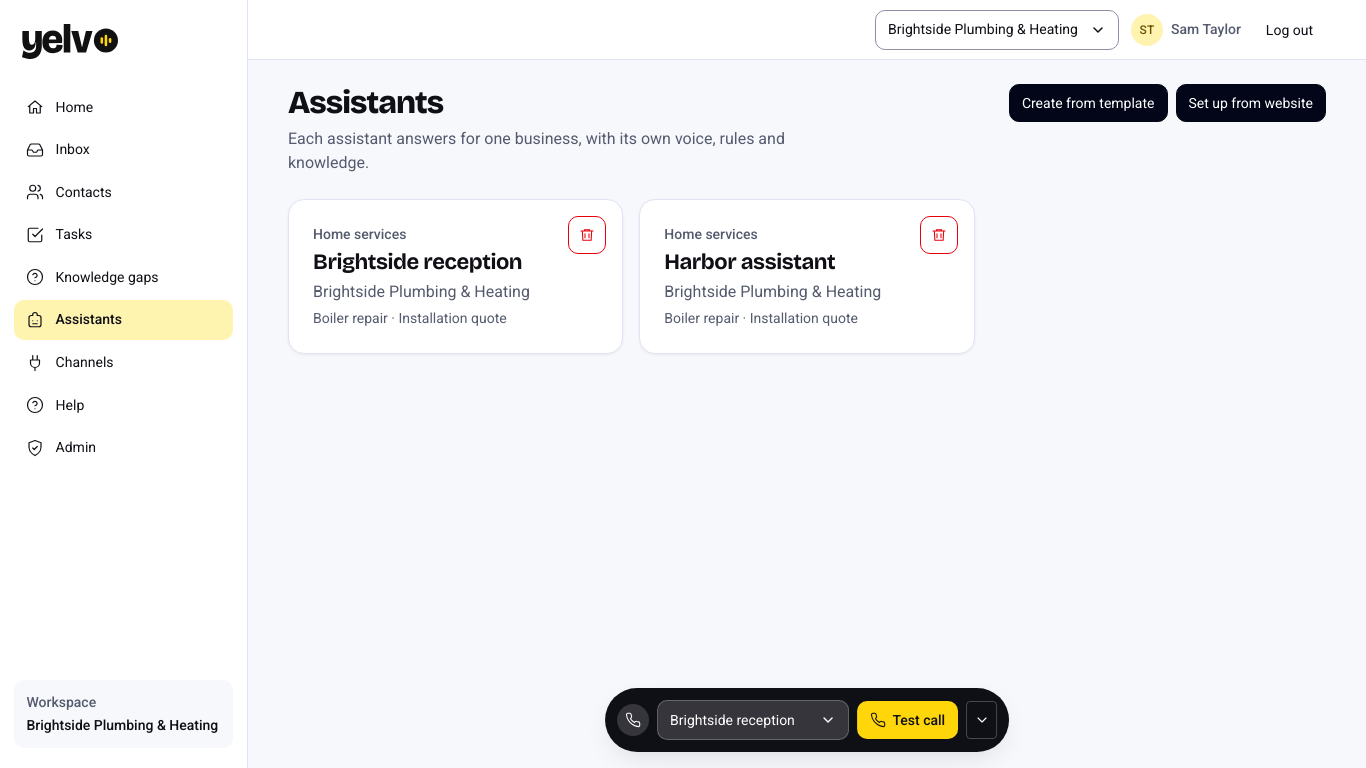
workspace switching › refetches tenant data for the selected workspace
Select "Demo & Co Solicitors" in the dropdown named "Workspace" at (997, 30), box left=875, top=10, right=1119, bottom=50
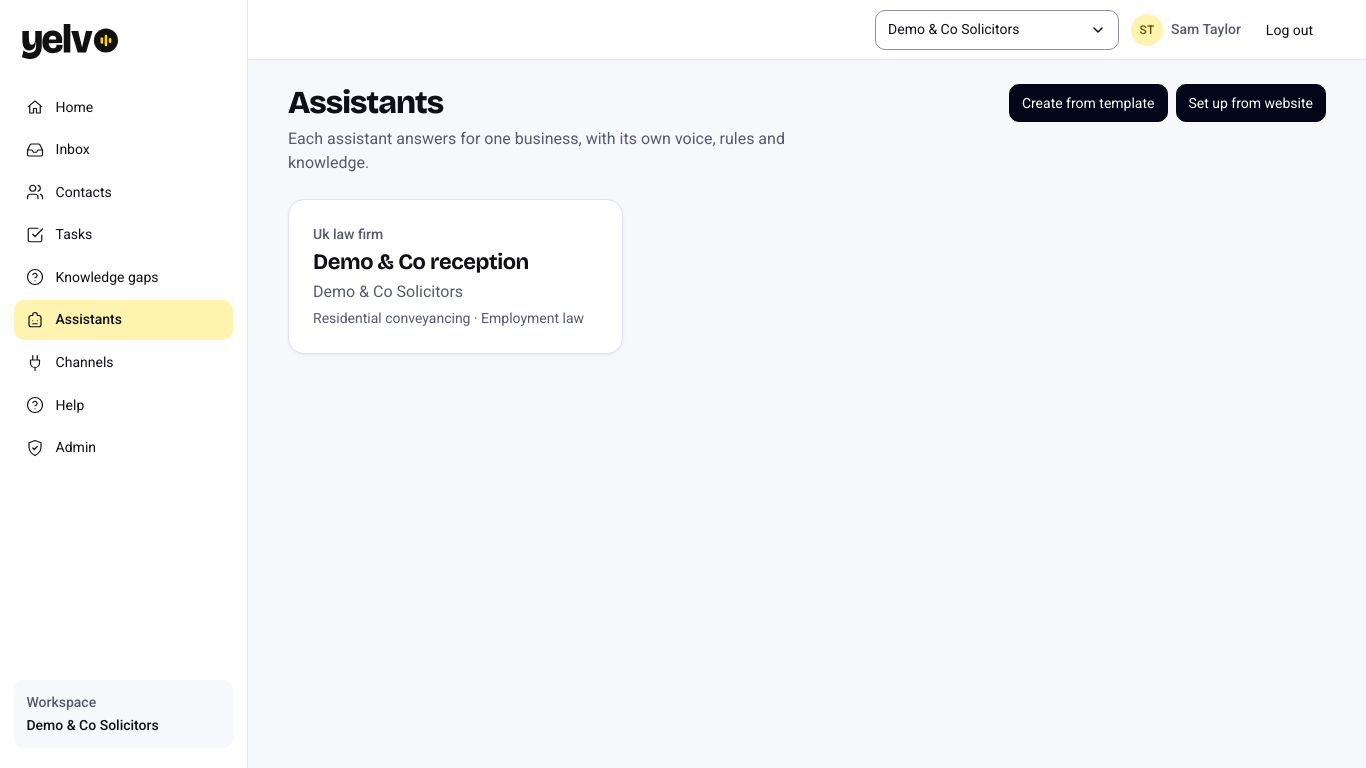
Result: no links "Brightside reception" are shown
